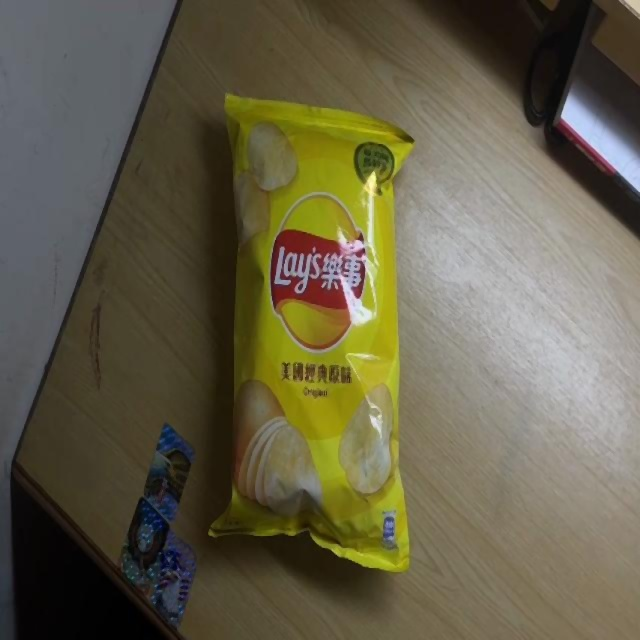Lay-s-original: (206, 90, 414, 570)
